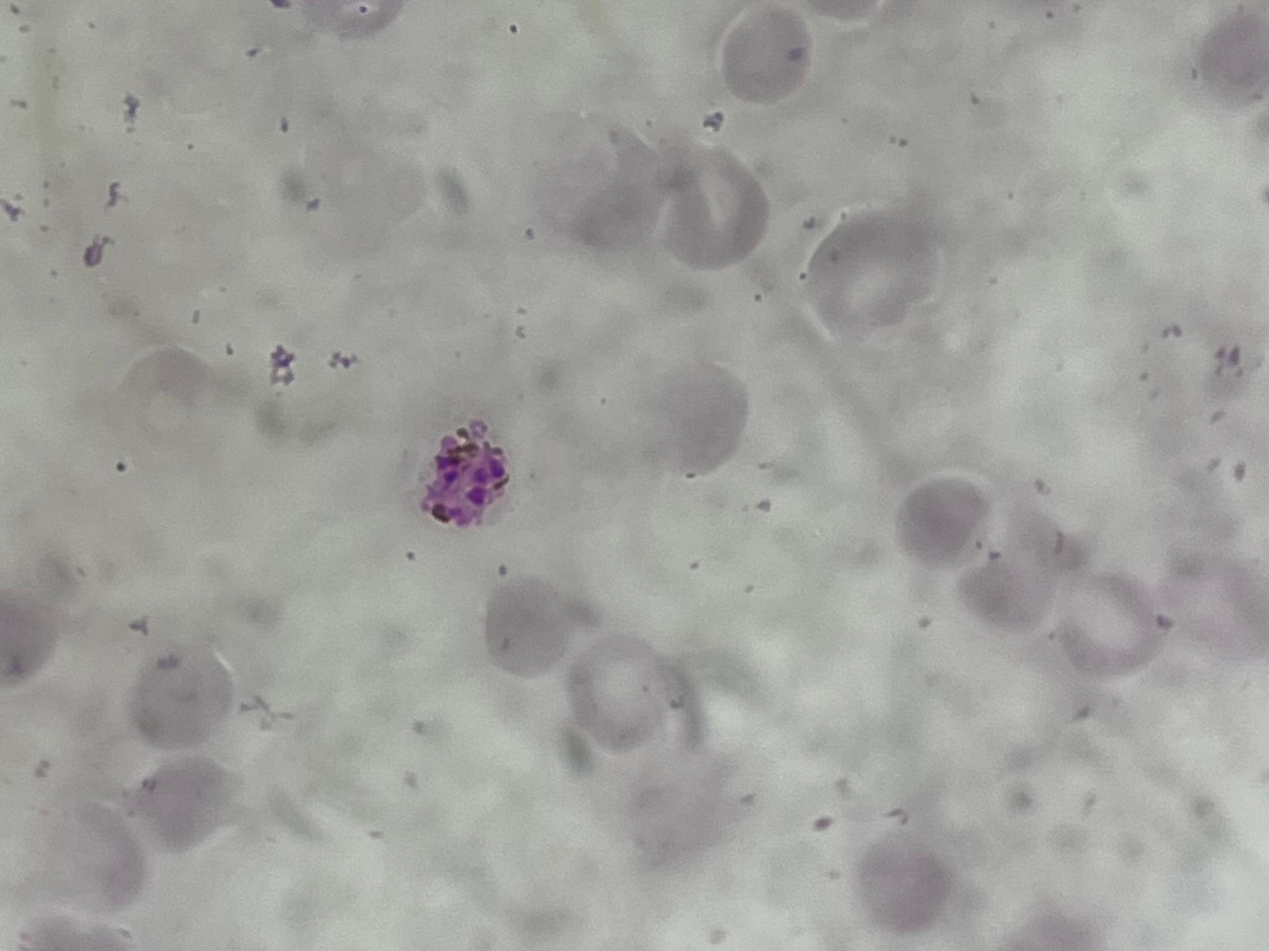Infected: (422, 420, 514, 527)
Uninfected: (803, 207, 939, 337), (663, 146, 769, 270), (1159, 548, 1269, 664), (563, 644, 681, 752), (1052, 574, 1170, 681), (127, 641, 235, 750), (482, 575, 588, 677), (853, 833, 957, 931), (892, 471, 995, 568), (720, 0, 808, 106), (956, 548, 1059, 634), (1194, 9, 1269, 100)
